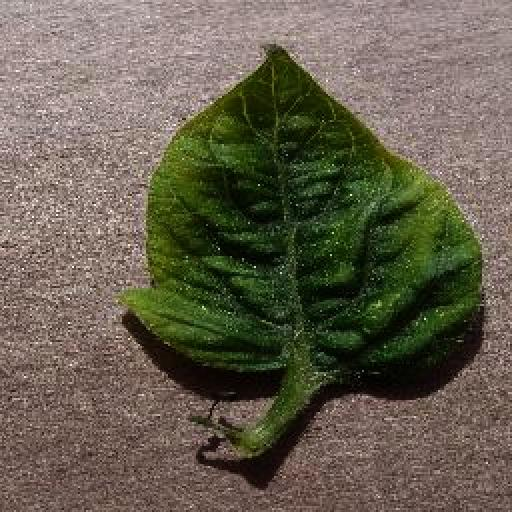disease_tomato: (118, 42, 484, 374)
